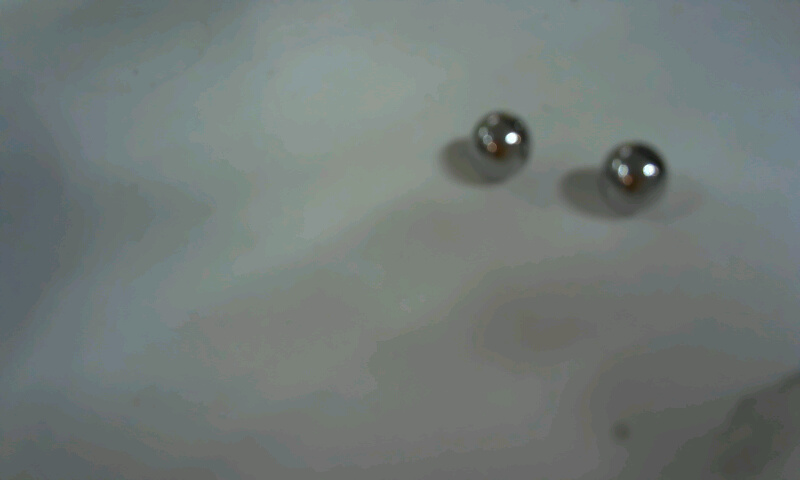steelball: (453, 98, 548, 192), (594, 129, 690, 222)
